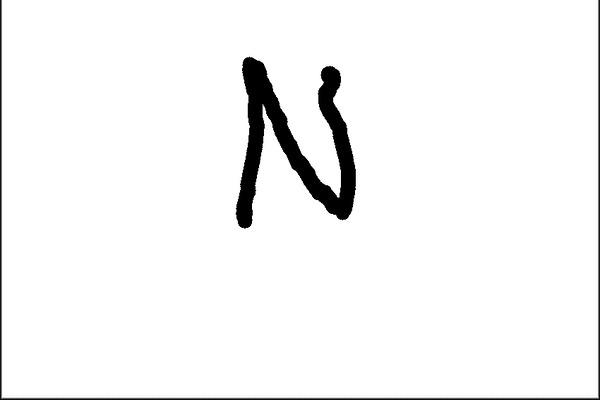N: (227, 49, 359, 236)
